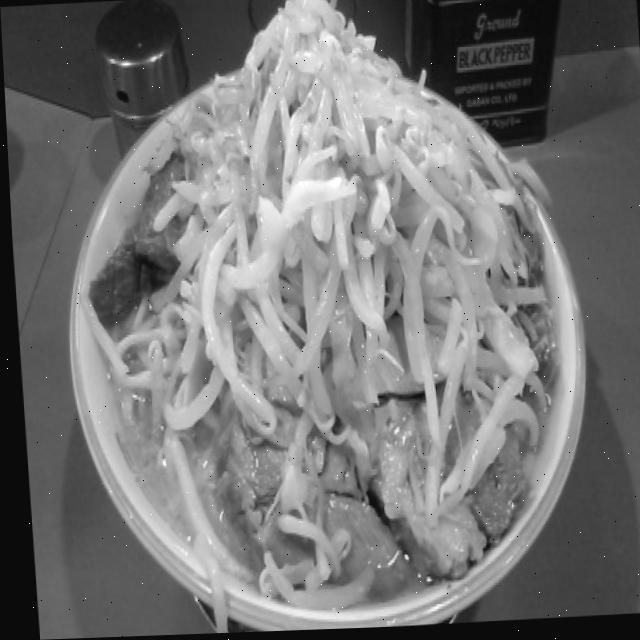面条主食: (40, 0, 595, 639)
